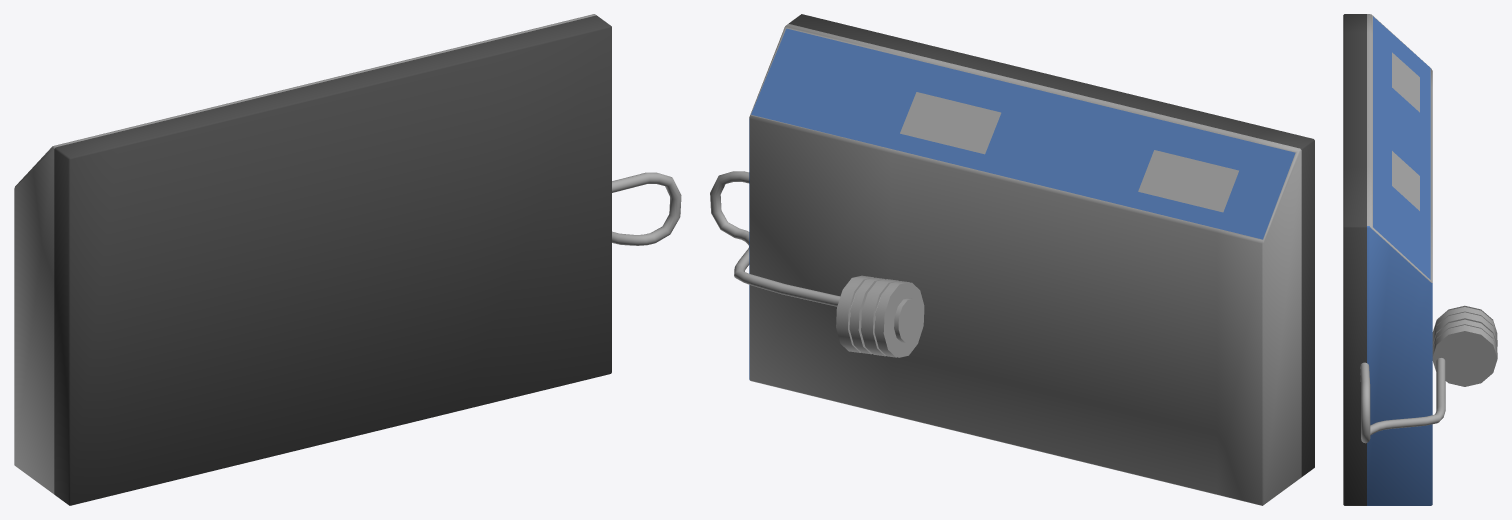
3 renders of one model, left to right at view 1: azimuth 30°, elevation 25°; view 2: azimuth 150°, elevation 25°; view 3: azimuth 270°, elevation 25°, orthographic. The views are drawn at different scales.
Visible parts, largest first — view 1: Cube; view 2: Cube; view 3: Cube.
Part boxes in pixels (x1,y1,x2,y2): Cube: (14, 14, 681, 505); Cube: (710, 14, 1314, 505); Cube: (1343, 14, 1497, 505).
Size of the model in its own units: 16.91 by 9 by 4.5.
